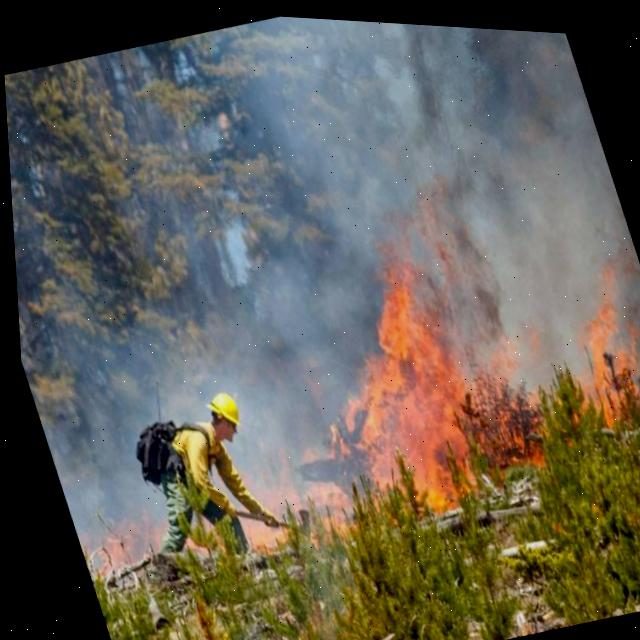fire: (332, 247, 640, 501)
smoke: (38, 13, 640, 550)
